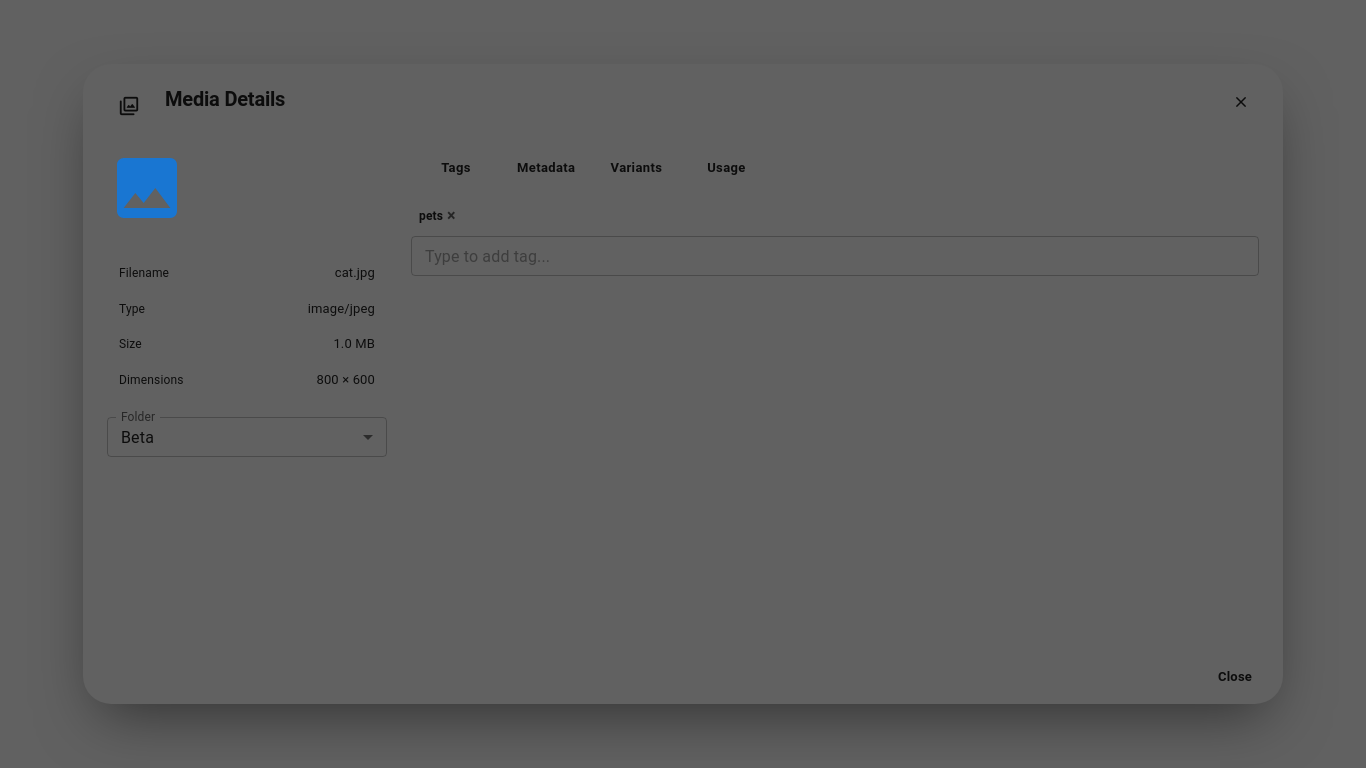
Test case: MediaDetailDialog › shows the empty variants note and the usage references
This screenshot has width=1366, height=768.
Click the tab "Variants" at [636, 168], box [591, 148, 681, 188]
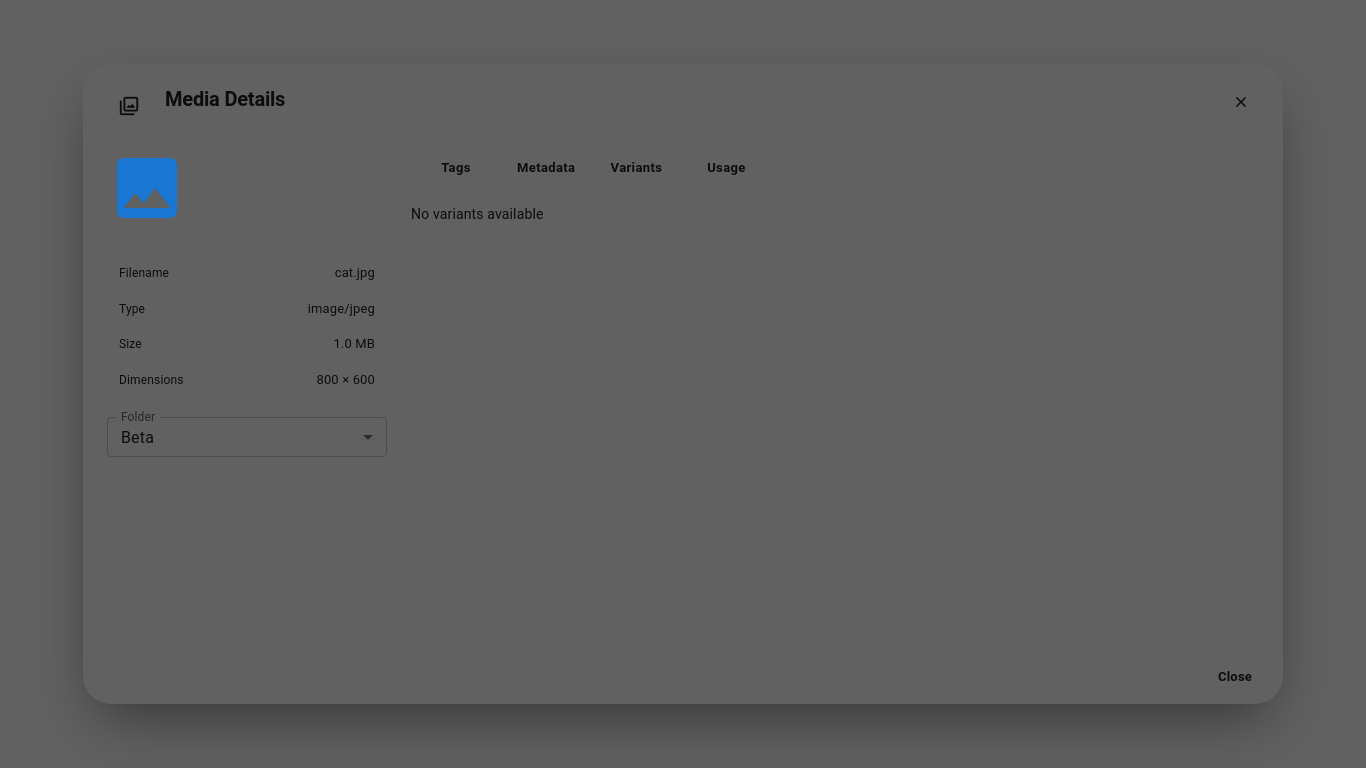
Expected: the text "No variants available" is shown, [411, 206, 544, 222]
Click the tab "Usage" at [726, 168], box [681, 148, 771, 188]
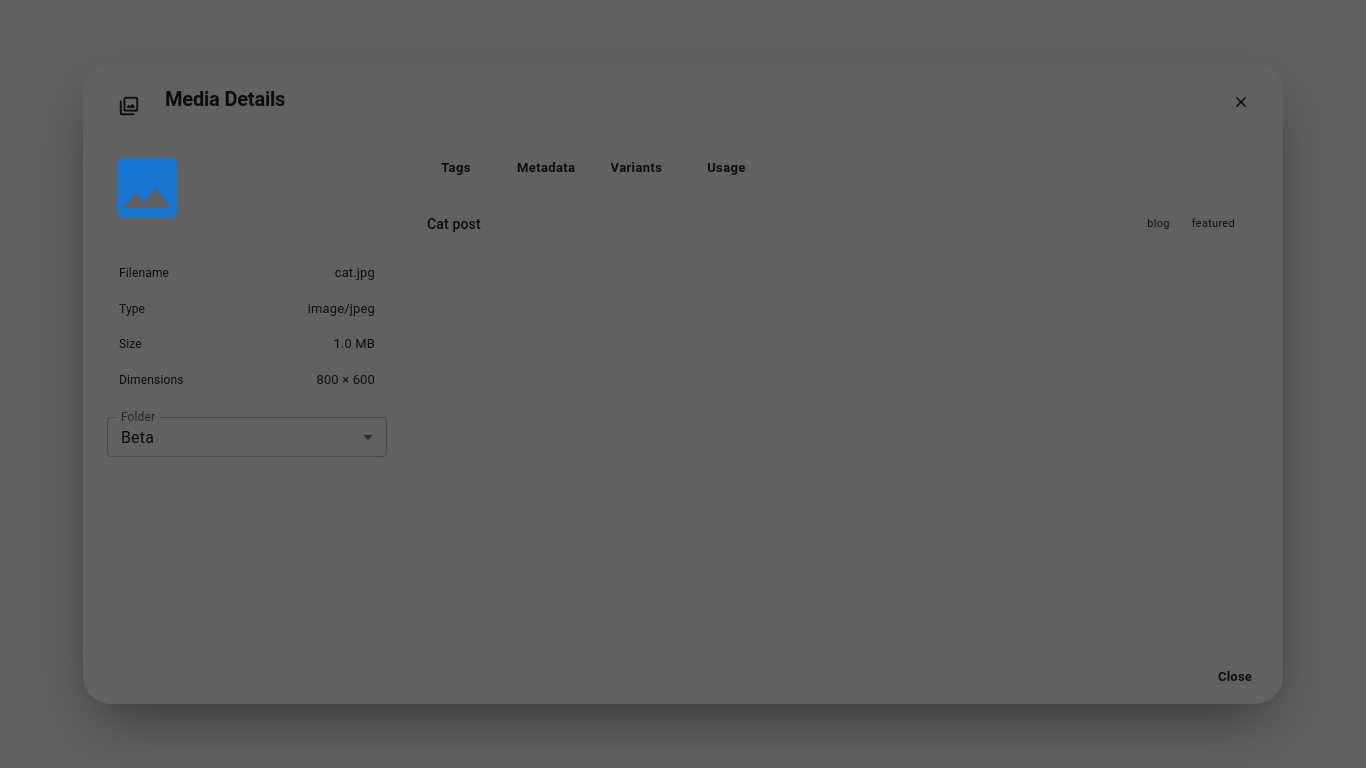
Expected: the text "Cat post" is shown, [427, 214, 481, 234]
Expected: the text "featured" is shown, [1192, 217, 1235, 230]
